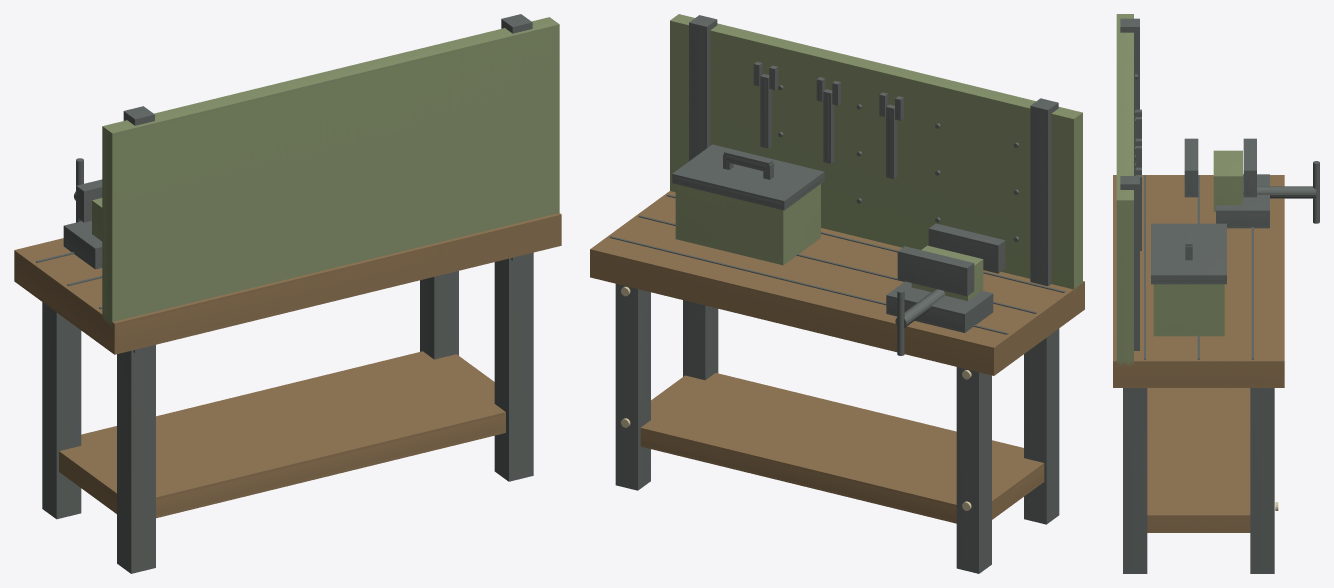
File: RepairBench.glb
3 renders of one model, left to right at view 1: azimuth 30°, elevation 25°; view 2: azimuth 150°, elevation 25°; view 3: azimuth 270°, elevation 25°, orthographic. The views are drawn at different scales.
Parts seen in each view (by area): view 1: LOD1_PropPaint, LOD0_PropPaint, LOD1_PropWood, LOD0_PropWood, LOD0_PropSteel, LOD1_PropSteel; view 2: LOD0_PropPaint, LOD0_PropWood, LOD1_PropSteel, LOD1_PropWood, LOD0_PropSteel, LOD1_PropPaint; view 3: LOD1_PropWood, LOD0_PropWood, LOD0_PropSteel, LOD1_PropSteel, LOD1_PropPaint, LOD0_PropPaint.
Part boxes in pixels (x1,y1,x2,y2): LOD1_PropPaint: (92,17,559,327); LOD0_PropPaint: (93,19,556,324); LOD1_PropWood: (14,213,561,518); LOD0_PropWood: (15,213,557,515); LOD0_PropSteel: (36,16,531,570); LOD1_PropSteel: (42,14,533,573); LOD0_PropPaint: (672,15,1081,300); LOD0_PropWood: (592,192,1044,521); LOD1_PropSteel: (615,15,1059,573); LOD1_PropWood: (590,191,1084,523); LOD0_PropSteel: (609,16,1065,570); LOD1_PropPaint: (670,14,1082,300); LOD1_PropWood: (1113,175,1284,532); LOD0_PropWood: (1115,176,1281,530); LOD0_PropSteel: (1123,20,1319,571); LOD1_PropSteel: (1120,18,1318,573); LOD1_PropPaint: (1116,14,1242,366); LOD0_PropPaint: (1119,15,1240,364).
Bounding box in the file's own units: 1.8 × 1.75 × 0.844.
